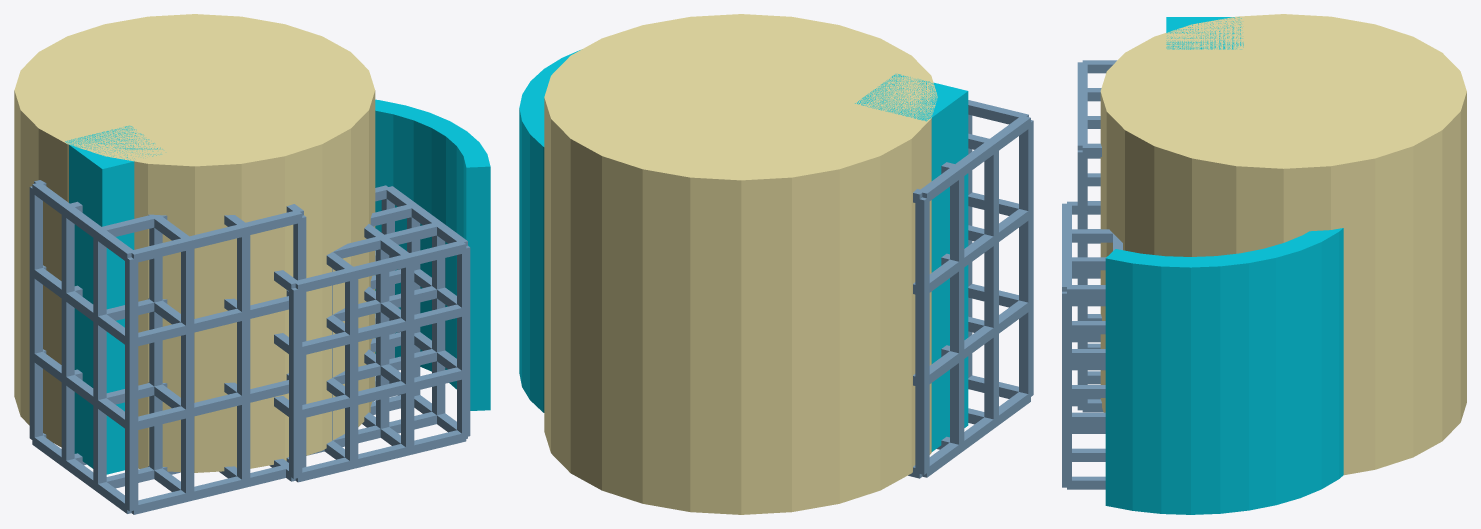
The model's file is folie_tag_138.glb.
3 renders of one model, left to right at view 1: azimuth 30°, elevation 25°; view 2: azimuth 150°, elevation 25°; view 3: azimuth 270°, elevation 25°, orthographic. The views are drawn at different scales.
Parts seen in each view (by area): view 1: folie_tag_138_00_drum, folie_tag_138_01_cage, folie_tag_138_03_cage, folie_tag_138_02_curve, folie_tag_138_core; view 2: folie_tag_138_00_drum, folie_tag_138_01_cage, folie_tag_138_core, folie_tag_138_02_curve; view 3: folie_tag_138_00_drum, folie_tag_138_02_curve, folie_tag_138_03_cage, folie_tag_138_01_cage, folie_tag_138_core.
Part boxes in pixels (x1,y1,x2,y2): folie_tag_138_00_drum: (14, 14, 375, 472); folie_tag_138_01_cage: (29, 180, 306, 514); folie_tag_138_03_cage: (269, 185, 470, 482); folie_tag_138_02_curve: (375, 99, 490, 410); folie_tag_138_core: (65, 125, 162, 474); folie_tag_138_00_drum: (544, 14, 937, 514); folie_tag_138_01_cage: (908, 100, 1033, 478); folie_tag_138_core: (855, 74, 968, 451); folie_tag_138_02_curve: (519, 50, 580, 412); folie_tag_138_00_drum: (1100, 14, 1466, 475); folie_tag_138_02_curve: (1105, 228, 1343, 514); folie_tag_138_03_cage: (1062, 201, 1122, 489); folie_tag_138_01_cage: (1077, 60, 1116, 412); folie_tag_138_core: (1166, 17, 1243, 49).
Bounding box in the file's own units: 6.54 × 4.95 × 5.75.
